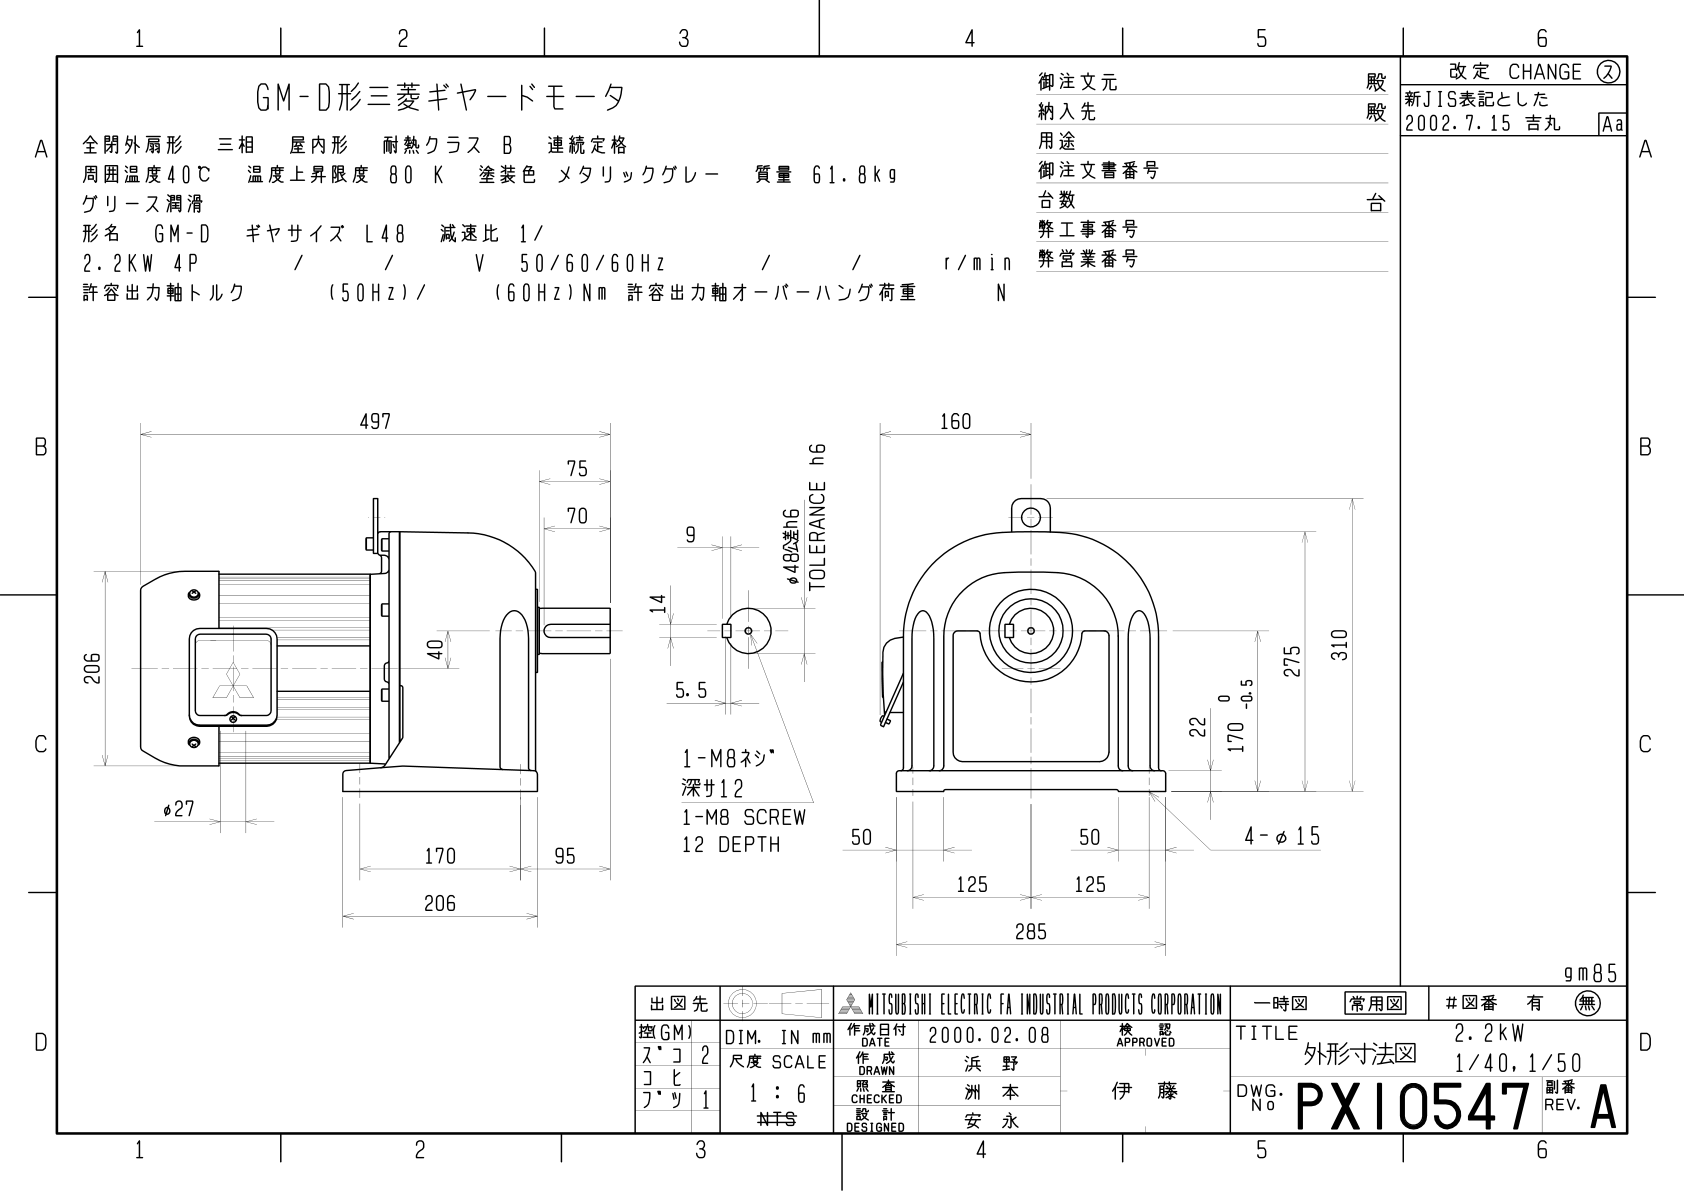GM_D_屋内＿三相_脚: (75, 361, 1385, 963)
